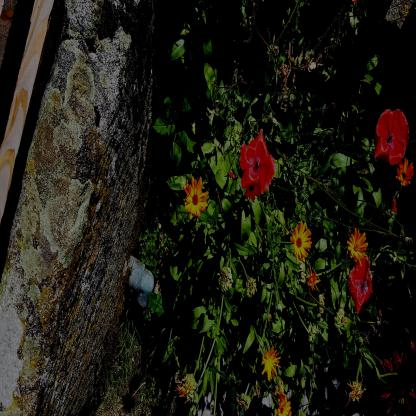marigold: (182, 174, 209, 219), (290, 219, 312, 264), (346, 226, 368, 265), (260, 344, 280, 384), (242, 168, 262, 203), (395, 154, 414, 188), (274, 395, 292, 416)
